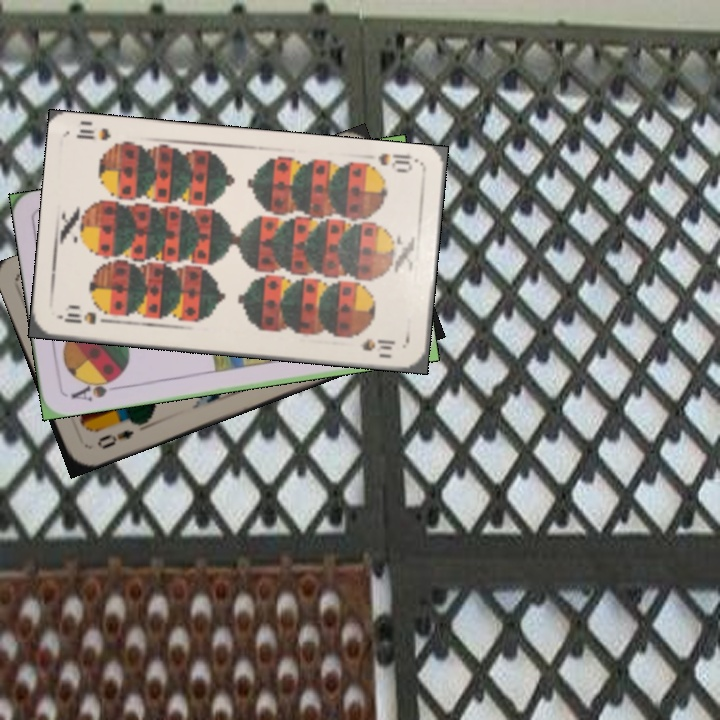EO: (93, 426, 136, 452)
S10: (55, 308, 114, 327), (374, 149, 415, 176)
SA: (67, 373, 122, 404)
